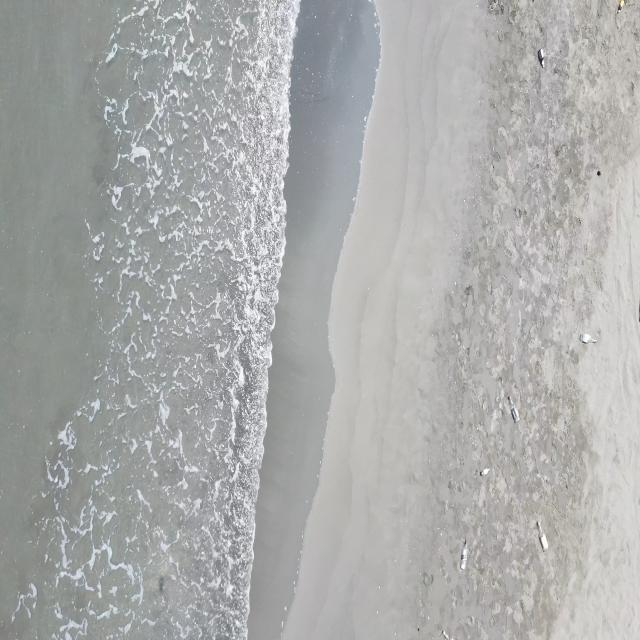glass: (538, 520, 550, 552), (508, 395, 520, 423), (459, 539, 468, 571), (581, 333, 598, 344), (538, 47, 545, 69), (617, 0, 625, 14), (480, 467, 491, 477)
